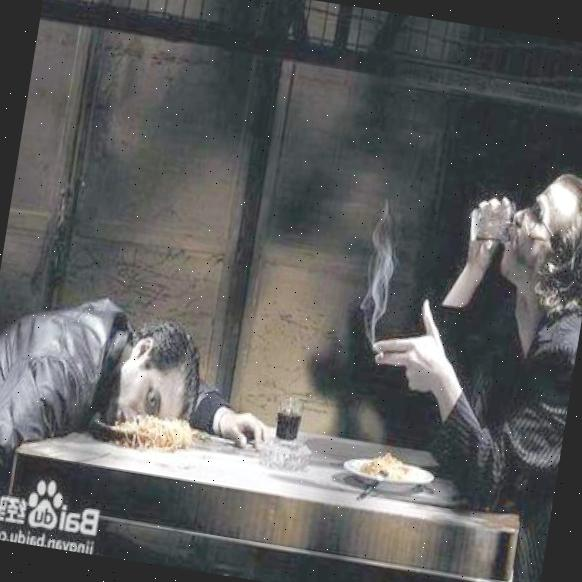smoke: (351, 213, 405, 333)
